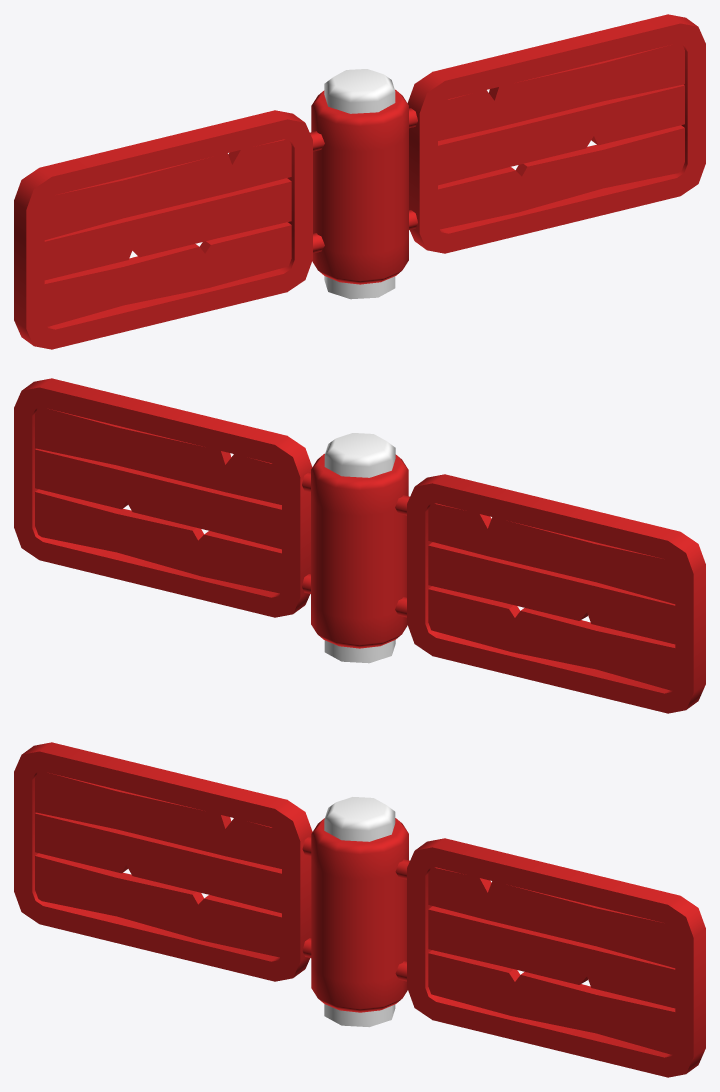
The model's file is obstacle_6_001.fbx.
3 views of the same model, one above another, from view 1: azimuth 30°, elevation 25°; view 2: azimuth 150°, elevation 25°; view 3: azimuth 330°, elevation 25° (orthographic).
Parts seen in each view (by area): view 1: obstacle_6_001; view 2: obstacle_6_001; view 3: obstacle_6_001.
Boxes of the visible parts, x1,y1,x2,y2 form: obstacle_6_001: [14, 14, 705, 349]; obstacle_6_001: [14, 378, 705, 713]; obstacle_6_001: [14, 742, 705, 1077].
Size of the model in its own units: 553 by 159 by 68.95.
